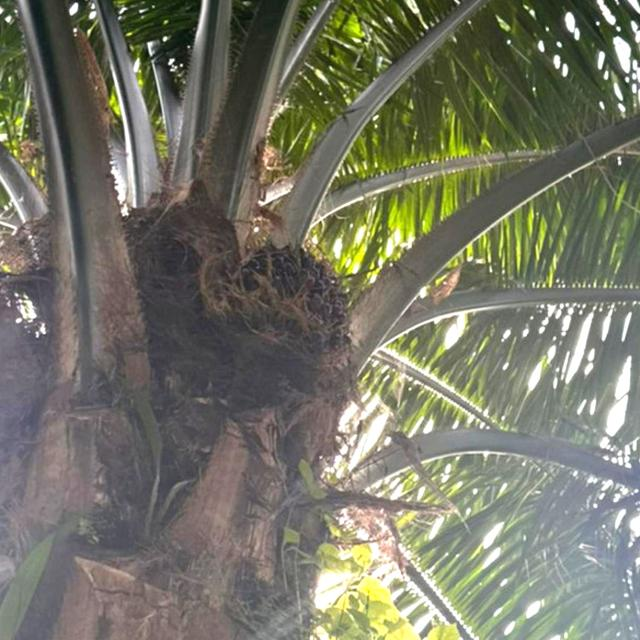ripe: (218, 224, 359, 370)
